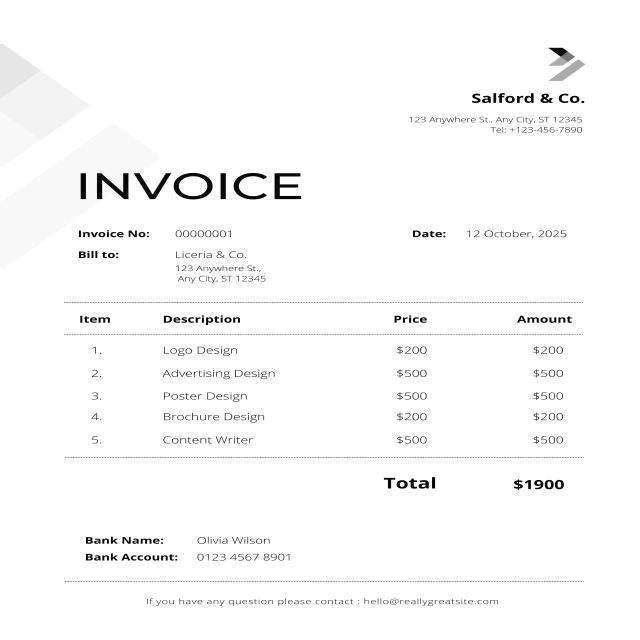paragraph: (398, 83, 599, 150), (62, 165, 323, 207), (141, 592, 504, 618), (375, 466, 597, 506), (78, 532, 297, 570), (403, 216, 586, 250), (68, 218, 266, 242)
table: (62, 295, 606, 452)
